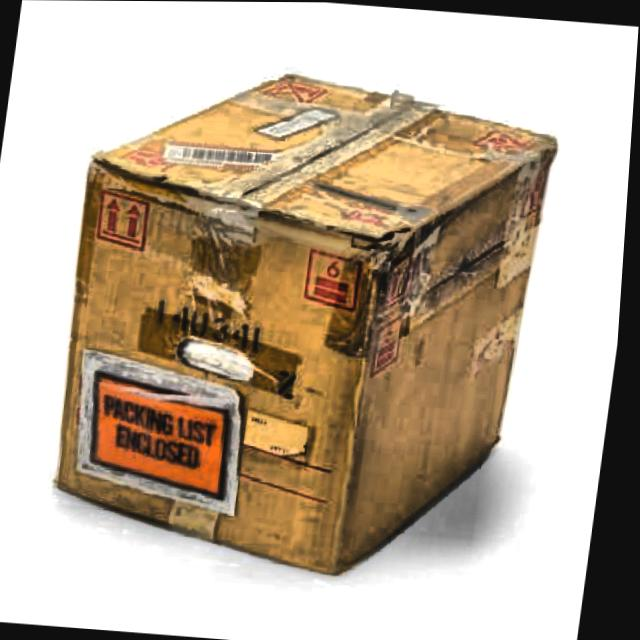Cardbox: (23, 41, 571, 598)
